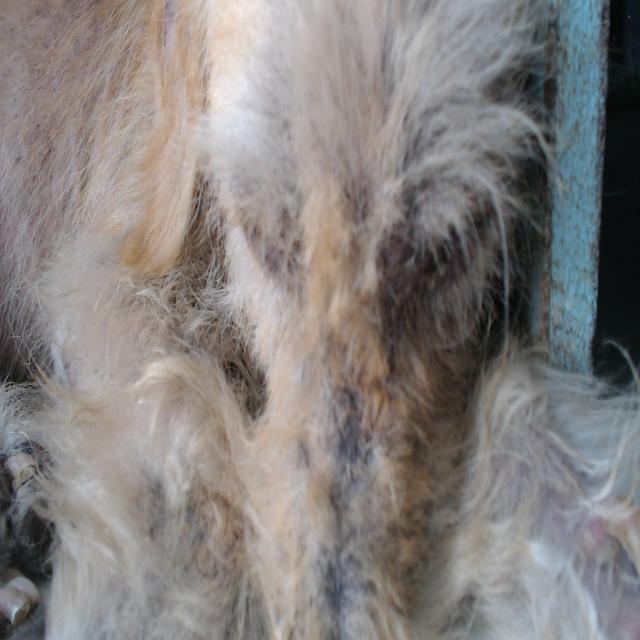demodicosis: (309, 394, 382, 584)
